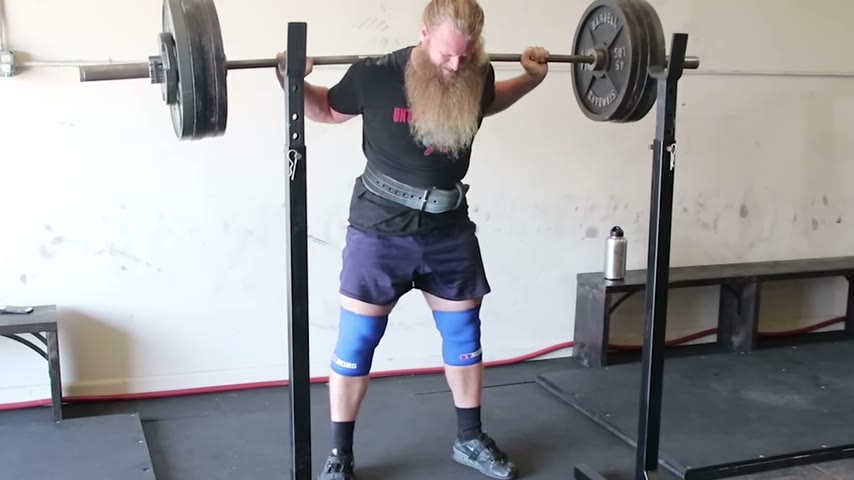barbell_plate_side: (593, 0, 700, 146), (209, 2, 287, 141)
